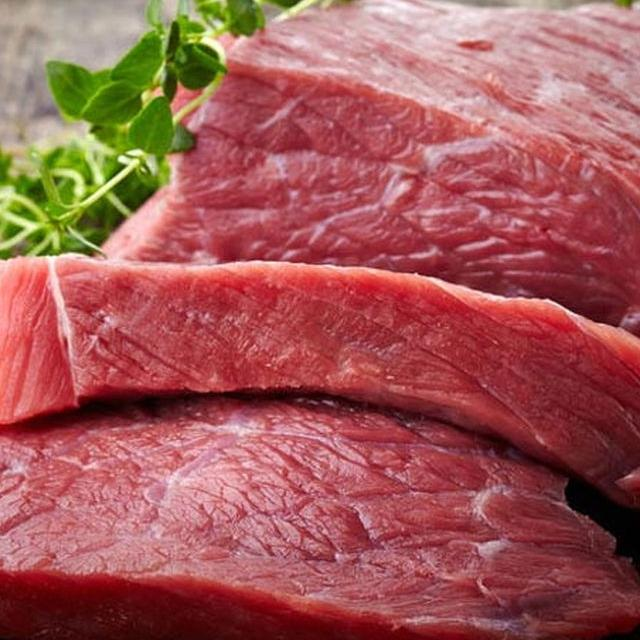beef: (0, 225, 640, 547), (0, 321, 640, 640), (151, 0, 640, 361)
